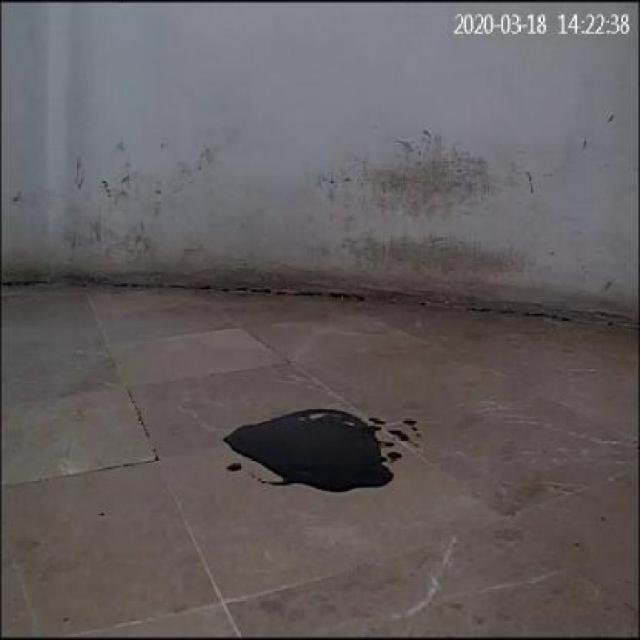spill: (223, 405, 391, 490)
